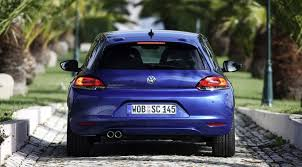car: (57, 29, 240, 157)
